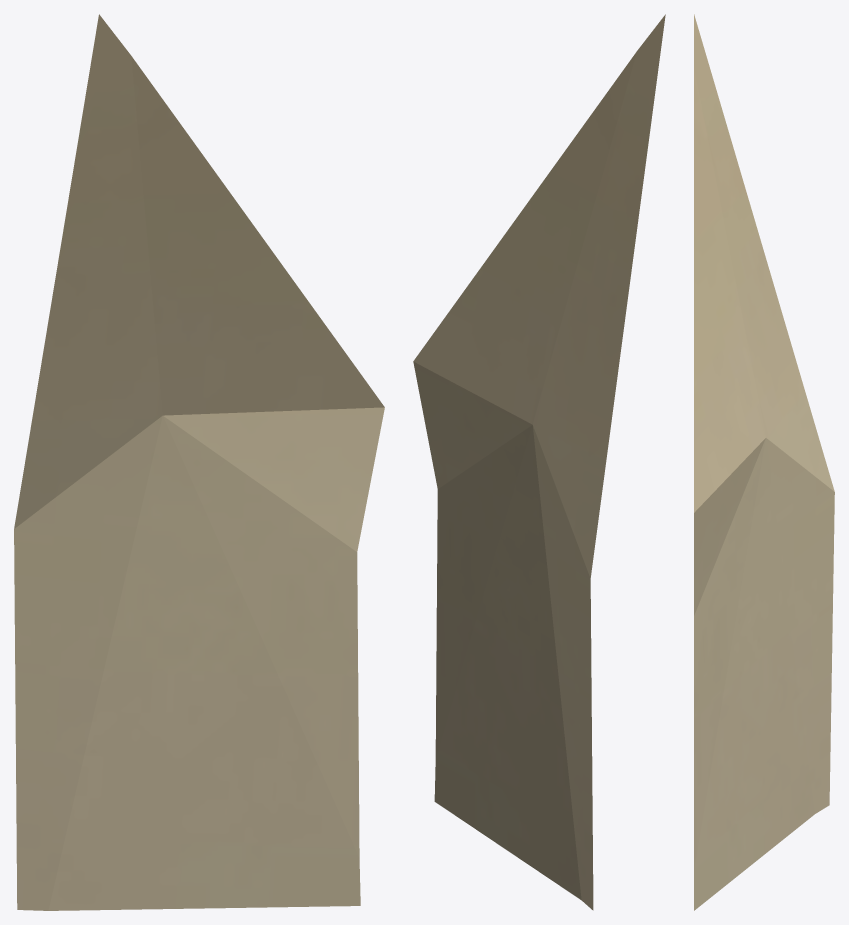
3 renders of one model, left to right at view 1: azimuth 30°, elevation 25°; view 2: azimuth 150°, elevation 25°; view 3: azimuth 270°, elevation 25°, orthographic. The views are drawn at different scales.
Bounding box in the file's own units: 0.1826 × 0.5834 × 0.0941.
1 material, 1 textured.
